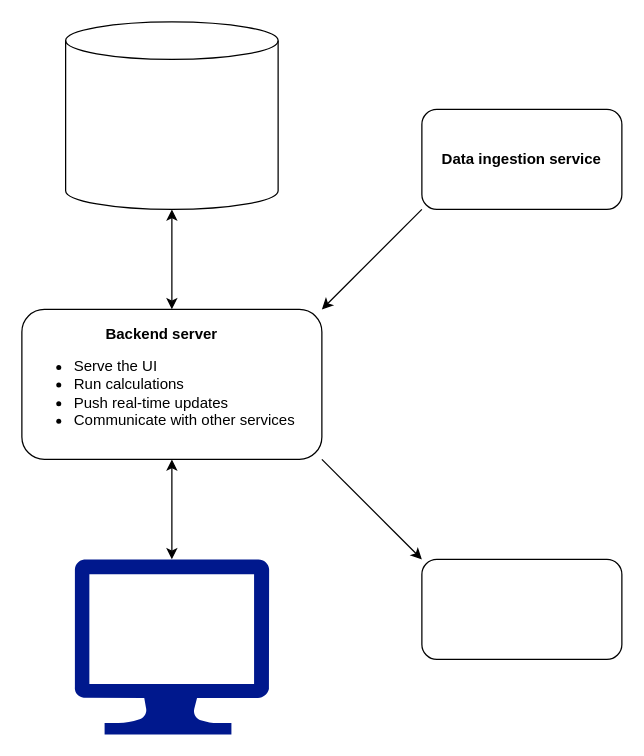
This 644x756 diagram has some shape labels left out. Here are the shapes that lost their labels. From the top down, the centre of each, then its label:
At (171,115): "Database".
At (521,608): "Reporting service".
